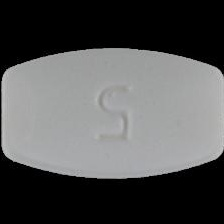64380-741: (0, 0, 224, 224)
